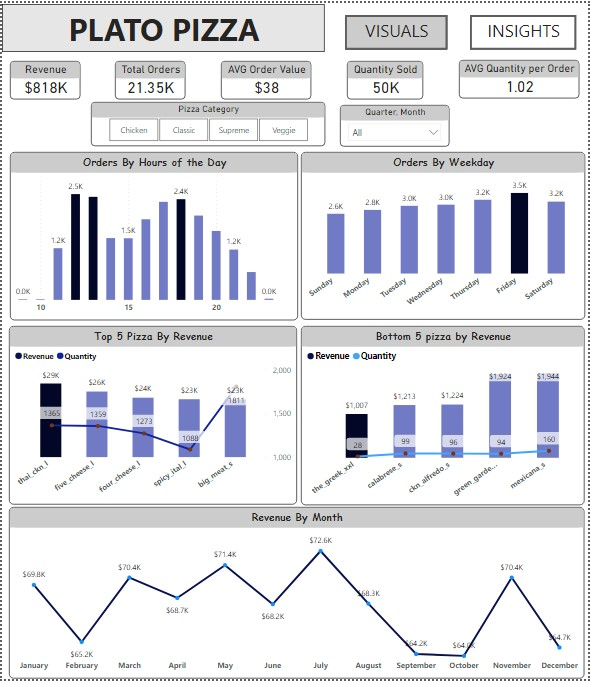

The page's visual inventory and layout, read from the dashboard file:
{"tool":"powerbi","page":{"name":"Page 1","canvas":[916,1056],"ordinal":0},"visuals":[{"type":"group","id":"g1","title":"Group 2","box":[10.3,89.5,899.8,966.6],"z":0,"group":"g3"},{"type":"card","title":"Total Orders","fields":{"Values":["Count(order_details.order_id)"]},"box":[175.9,90.7,110,60],"z":0,"group":"g1"},{"type":"clusteredColumnChart","title":"Orders By Weekday","fields":{"Category":["CalendarTable.Weekday"],"Y":["Count(order_details.order_id)"]},"box":[466.1,232.7,444,261.7],"z":0,"group":"g2"},{"type":"textbox","title":"BACK VISUALS","box":[536,18,160,54],"z":1000},{"type":"group","id":"g2","title":"Group 1","box":[10.3,89.5,899.8,966.6],"z":1000,"group":"g1"},{"type":"clusteredColumnChart","title":"Orders By Hours of the Day","fields":{"Category":["orders.Hour"],"Y":["Count(order_details.order_id)"]},"box":[11.1,232.7,450,263.3],"z":1000,"group":"g2"},{"type":"textbox","title":"VISUAL BOX","box":[536,18,160,54],"z":2000},{"type":"lineClusteredColumnComboChart","title":"Top 5 Pizza By Revenue","fields":{"Category":["order_details.pizza_id"],"Y":["Sum(order_details.Sales Amount)"],"Y2":["CountNonNull(order_details.pizza_id)"]},"box":[10.3,504.8,450,278.8],"z":2000,"group":"g2"},{"type":"textbox","box":[0,1.7,503.8,75.1],"z":3000},{"type":"lineStackedColumnComboChart","title":"Bottom 5 pizza by Revenue","fields":{"Category":["order_details.pizza_id"],"Y":["Sum(order_details.Sales Amount)"],"Y2":["CountNonNull(order_details.pizza_id)"]},"box":[466.1,504.4,443.3,280],"z":3000,"group":"g2"},{"type":"lineChart","title":"Revenue By Month","fields":{"Y":["Sum(order_details.Sales Amount)"],"Category":["CalendarTable.Month"]},"box":[10.3,788.6,898.8,267.5],"z":4000,"group":"g2"},{"type":"textbox","title":"INSIGHTS BOX","box":[732,18,166,54],"z":5000},{"type":"slicer","title":"Quarter, Month","fields":{"Values":["CalendarTable.Quarter","CalendarTable.Month"]},"box":[527.8,159.1,171.2,65],"z":5000,"group":"g2"},{"type":"group","id":"g3","title":"Group 3","box":[10.3,89.5,900.9,965.9],"z":6000},{"type":"slicer","title":"Pizza Category","fields":{"Values":["pizza_types.category"]},"box":[139.1,155.3,366.2,68.8],"z":6000,"group":"g2"},{"type":"card","title":"Revenue","fields":{"Values":["Sum(order_details.Sales Amount)"]},"box":[11.1,90.7,110,60],"z":7000,"group":"g2"},{"type":"actionButton","title":"Button Visual","box":[536,18,160,54],"z":8000},{"type":"card","title":"AVG Order Value","fields":{"Values":["order_details.AVG order value"]},"box":[341.5,90.7,141.2,60],"z":8000,"group":"g2"},{"type":"actionButton","title":"Insight Button","box":[732,18,166,54],"z":9000},{"type":"card","title":"Quantity Sold","fields":{"Values":["Sum(order_details.quantity)"]},"box":[538.4,90.7,118.8,60],"z":9000,"group":"g2"},{"type":"card","title":"AVG Quantity per Order","fields":{"Values":["order_details.AVG Quantity per order"]},"box":[712.8,89.5,187.5,60],"z":10000,"group":"g2"}]}

Visuals, with their boxes in screenshot pixels (x1, y1, x2, y2), scaled from the page's 916x1056 canvas onto the 591x683 screenshot:
"Group 2" group: 7, 58, 587, 682
"Total Orders" card: 113, 59, 184, 97
"Orders By Weekday" clusteredColumnChart: 301, 151, 587, 320
"BACK VISUALS" textbox: 346, 12, 449, 47
"Group 1" group: 7, 58, 587, 682
"Orders By Hours of the Day" clusteredColumnChart: 7, 151, 298, 321
"VISUAL BOX" textbox: 346, 12, 449, 47
"Top 5 Pizza By Revenue" lineClusteredColumnComboChart: 7, 326, 297, 507
textbox: 0, 1, 325, 50
"Bottom 5 pizza by Revenue" lineStackedColumnComboChart: 301, 326, 587, 507
"Revenue By Month" lineChart: 7, 510, 587, 682
"INSIGHTS BOX" textbox: 472, 12, 579, 47
"Quarter, Month" slicer: 341, 103, 451, 145
"Group 3" group: 7, 58, 588, 682
"Pizza Category" slicer: 90, 100, 326, 145
"Revenue" card: 7, 59, 78, 97
"Button Visual" actionButton: 346, 12, 449, 47
"AVG Order Value" card: 220, 59, 311, 97
"Insight Button" actionButton: 472, 12, 579, 47
"Quantity Sold" card: 347, 59, 424, 97
"AVG Quantity per Order" card: 460, 58, 581, 97
